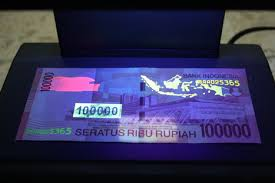100_RIBU_ASLI: (73, 100, 124, 120)
